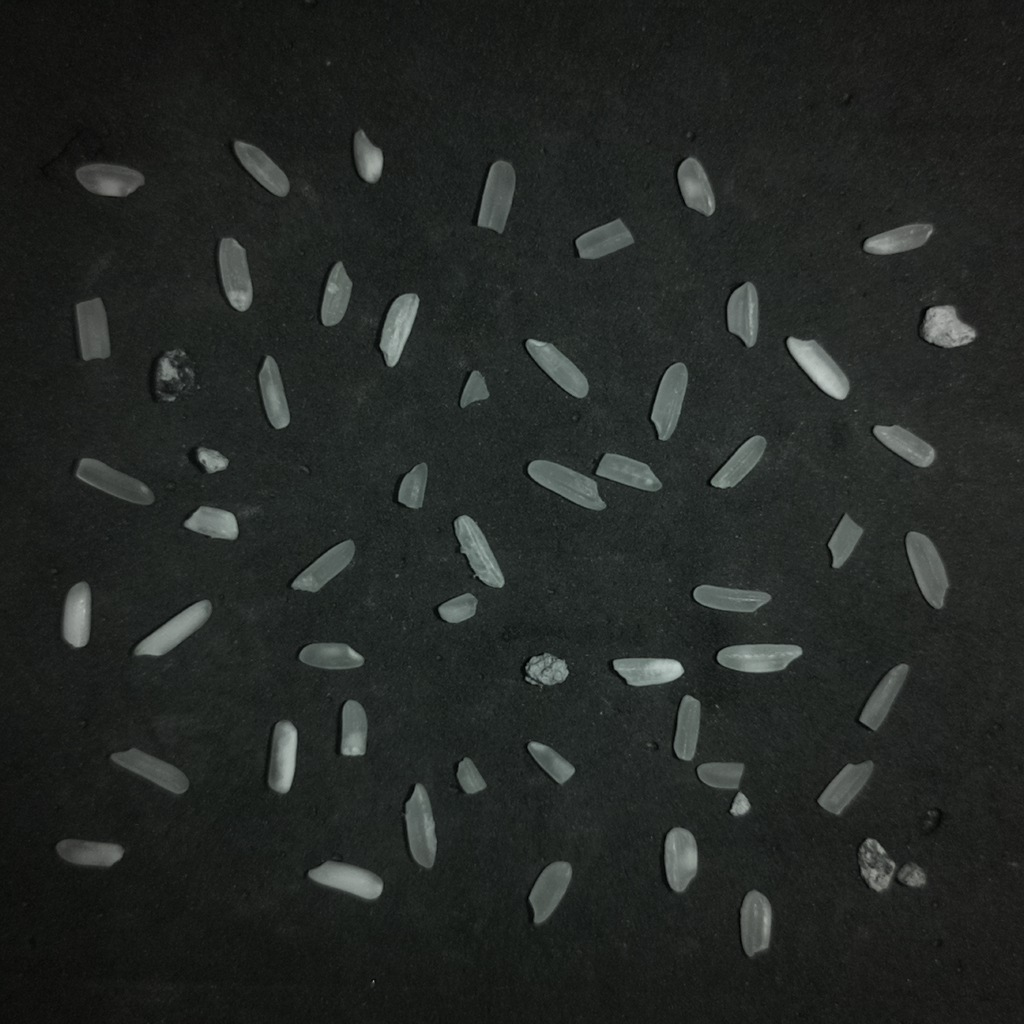broken: (233, 140, 289, 197), (818, 760, 873, 815), (528, 861, 572, 925), (477, 160, 515, 233), (872, 425, 934, 467), (595, 453, 661, 491), (218, 238, 252, 311), (575, 219, 633, 259), (75, 163, 144, 196), (677, 157, 715, 215), (863, 223, 933, 254), (664, 827, 697, 892), (76, 298, 110, 360), (726, 282, 758, 347), (740, 890, 771, 956), (321, 261, 351, 326), (827, 513, 863, 567), (55, 839, 123, 867), (298, 642, 363, 669), (397, 462, 427, 508), (696, 762, 745, 790), (437, 592, 477, 623), (460, 370, 489, 407), (457, 757, 485, 794), (730, 792, 750, 815)
chalky: (133, 599, 212, 657), (786, 338, 849, 399), (307, 860, 383, 900), (379, 293, 419, 367), (716, 643, 802, 673), (267, 720, 297, 794), (612, 658, 683, 686), (62, 582, 91, 647), (184, 506, 238, 540), (353, 129, 383, 183), (339, 700, 367, 755), (193, 446, 228, 473)
foreign: (454, 515, 504, 587), (919, 305, 976, 348), (153, 350, 193, 400), (858, 838, 895, 891), (525, 654, 567, 684), (893, 862, 925, 886)
whole: (527, 460, 605, 510), (525, 339, 588, 398), (75, 458, 154, 504), (109, 748, 188, 794), (905, 531, 948, 609), (858, 664, 908, 730), (292, 540, 354, 592), (711, 435, 766, 488), (650, 362, 687, 440), (404, 783, 435, 868), (258, 355, 289, 428), (693, 585, 770, 612), (527, 741, 574, 784), (673, 695, 700, 761)
